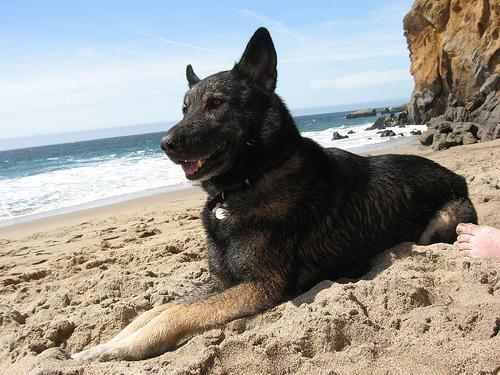German_shepherd: (68, 25, 478, 365)
